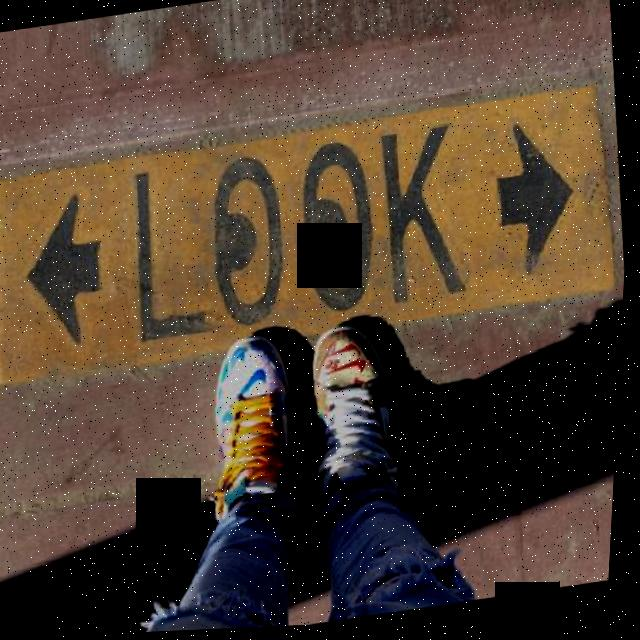shoe: (300, 319, 411, 513), (202, 330, 311, 514)
